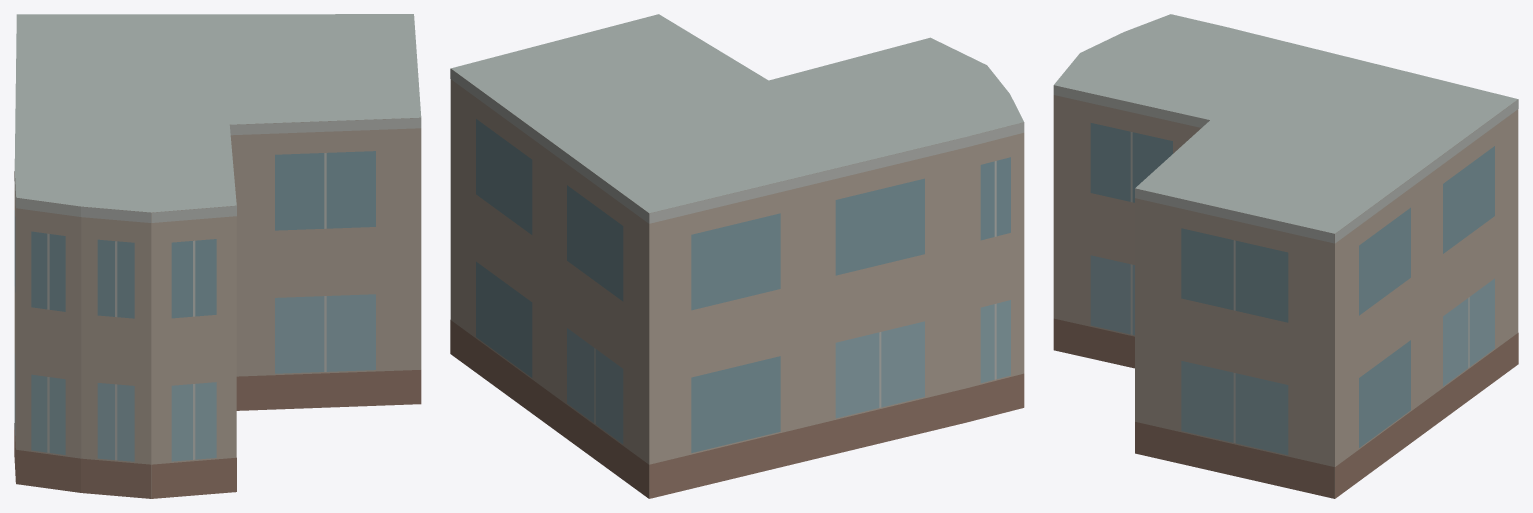
File: survey-upis-33046063.glb
3 views of the same model, side by side, from view 1: azimuth 30°, elevation 25°; view 2: azimuth 150°, elevation 25°; view 3: azimuth 270°, elevation 25° (orthographic). The views are drawn at different scales.
Visible parts, largest first — view 1: survey-upis-33046063.tmp; view 2: survey-upis-33046063.tmp; view 3: survey-upis-33046063.tmp.
Boxes of the visible parts, x1,y1,x2,y2 form: survey-upis-33046063.tmp: [14, 14, 421, 498]; survey-upis-33046063.tmp: [450, 14, 1024, 498]; survey-upis-33046063.tmp: [1053, 14, 1518, 498].
Size of the model in its own units: 11.75 by 6.6 by 10.5.
